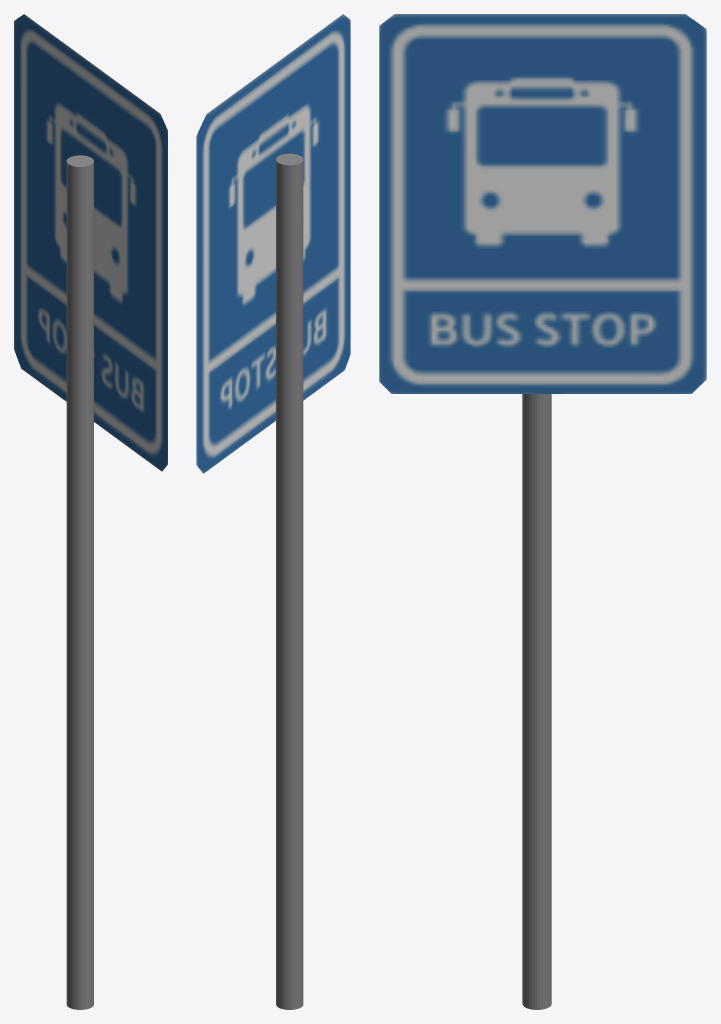
Rendered from SignBusStop.glb.
The picture shows the model from 3 angles, left to right: view 1: azimuth 30°, elevation 25°; view 2: azimuth 150°, elevation 25°; view 3: azimuth 270°, elevation 25°; orthographic projection. The views are drawn at different scales.
Visible parts, largest first — view 1: Cylinder; view 2: Cylinder; view 3: Cylinder.
Boxes of the visible parts, x1,y1,x2,y2 form: Cylinder: (14, 14, 167, 1009); Cylinder: (196, 14, 350, 1009); Cylinder: (379, 14, 706, 1009).
Size of the model in its own units: 0.011 by 0.3872 by 0.1153.
2 materials, 1 textured.
